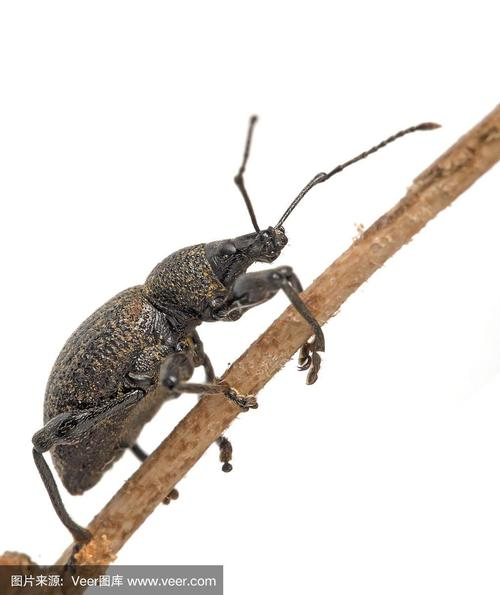Curculionidae: (30, 113, 443, 546)
